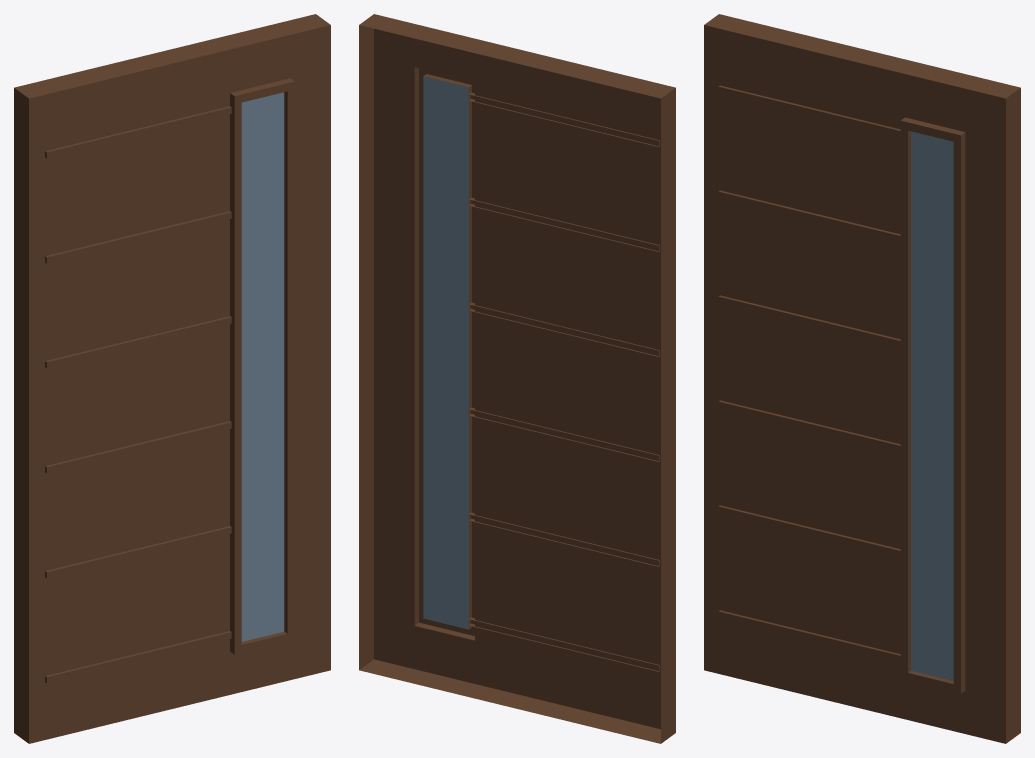
File: Door_Window2.glb
The picture shows the model from 3 angles, left to right: view 1: azimuth 30°, elevation 25°; view 2: azimuth 150°, elevation 25°; view 3: azimuth 330°, elevation 25°; orthographic projection.
Visible parts, largest first — view 1: Door_Window2; view 2: Door_Window2; view 3: Door_Window2.
Part boxes in pixels (box(x1,y1,x2,y2)): Door_Window2: box(14, 14, 330, 743); Door_Window2: box(359, 14, 675, 743); Door_Window2: box(704, 14, 1020, 743).
Size of the model in its own units: 0.4437 by 0.9066 by 0.0496.
Materials: 1 (1 with a texture image).
